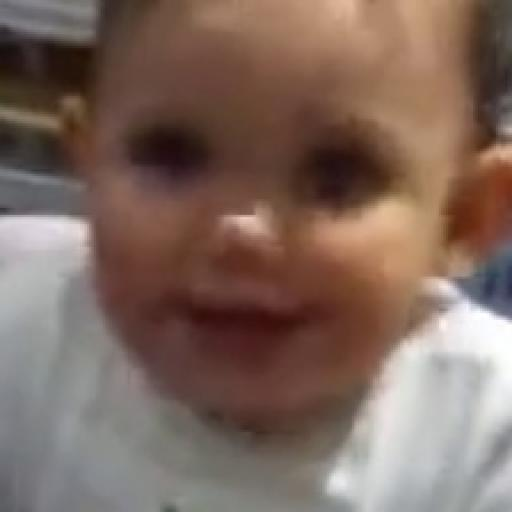Autism: (81, 0, 505, 440)
